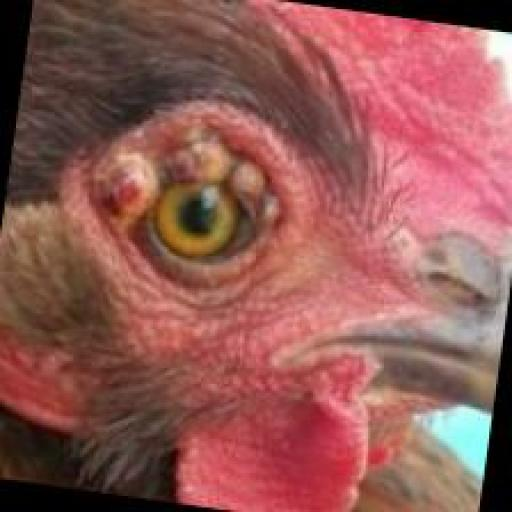disease: (58, 98, 337, 264)
